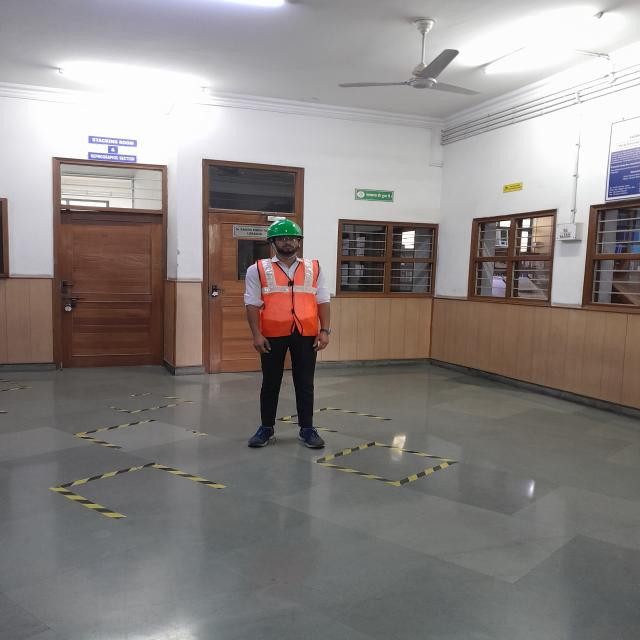safe: (243, 219, 337, 448)
